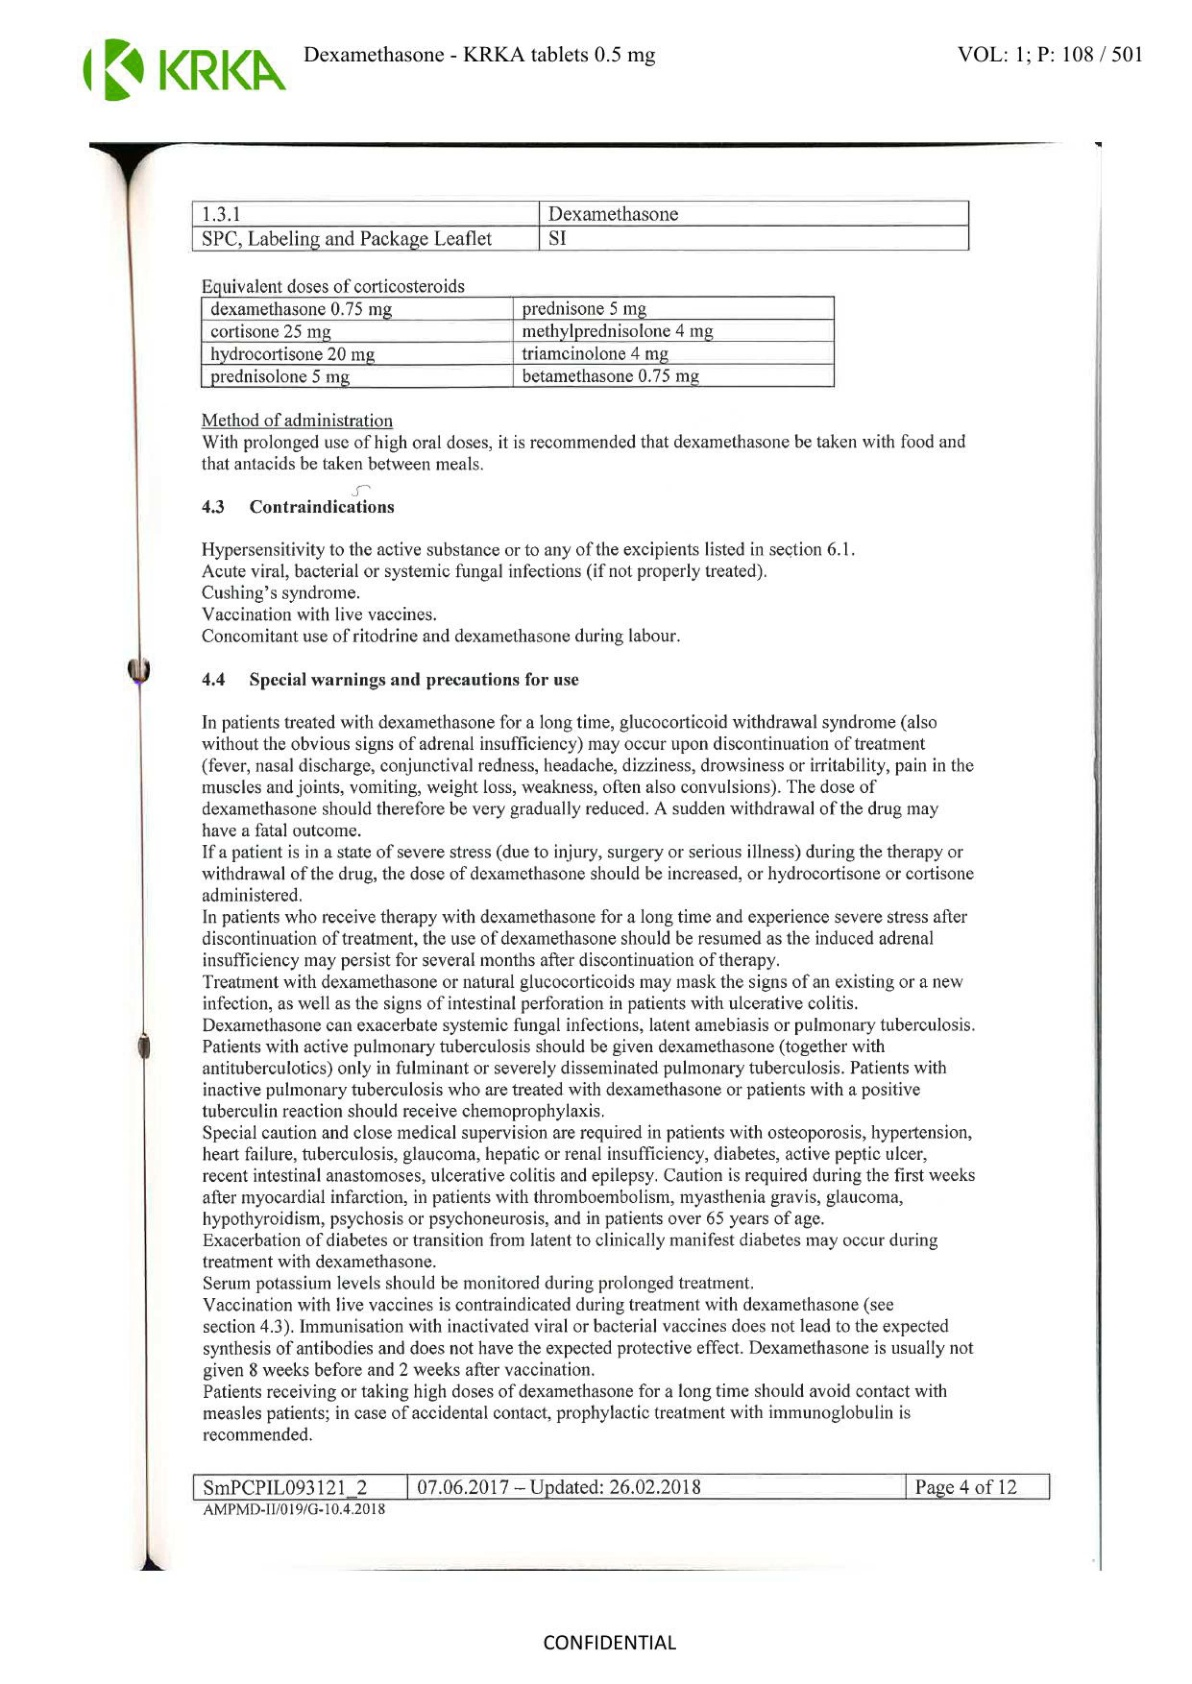full_lined: (200, 295, 836, 389), (191, 199, 970, 251), (192, 1473, 1051, 1501)
